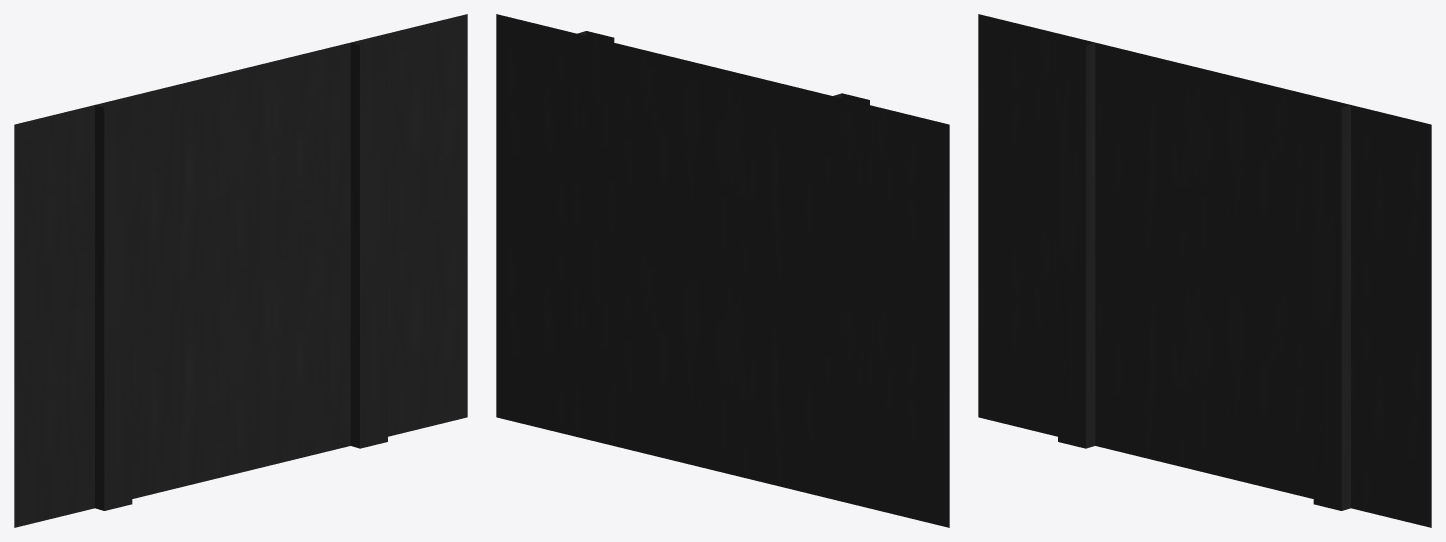
The model's file is SW_ENV_RailTunnelWall_B_01_05m.fbx.
3 renders of one model, left to right at view 1: azimuth 30°, elevation 25°; view 2: azimuth 150°, elevation 25°; view 3: azimuth 330°, elevation 25°, orthographic.
Parts seen in each view (by area): view 1: SW_ENV_RailTunnelWall_B_01_05m; view 2: SW_ENV_RailTunnelWall_B_01_05m; view 3: SW_ENV_RailTunnelWall_B_01_05m.
Boxes of the visible parts, box(x1,y1,x2,y2) form: SW_ENV_RailTunnelWall_B_01_05m: box(14, 14, 467, 527); SW_ENV_RailTunnelWall_B_01_05m: box(496, 14, 949, 527); SW_ENV_RailTunnelWall_B_01_05m: box(978, 14, 1431, 527).
Size of the model in its own units: 500 by 425 by 10.
